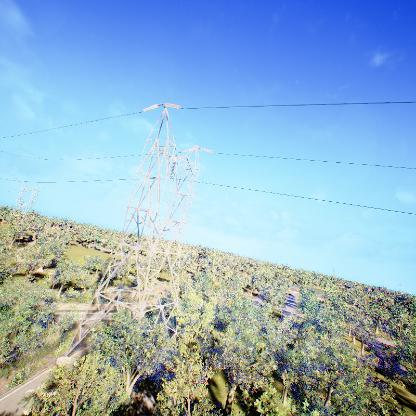tower: (60, 102, 216, 363)
